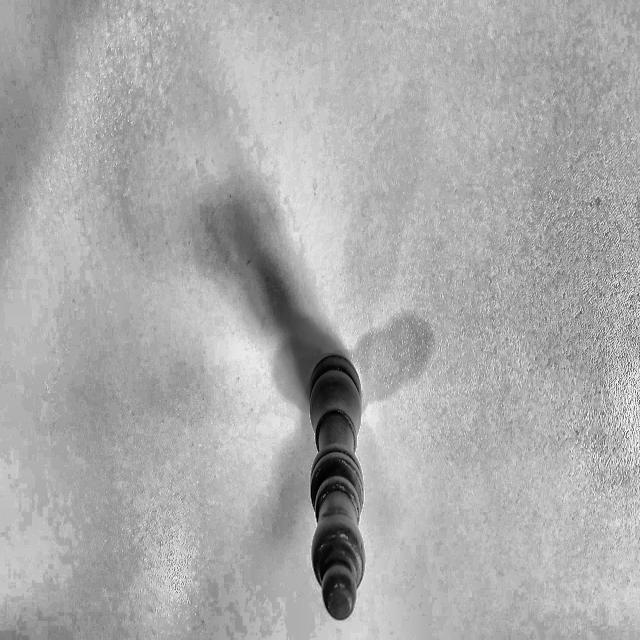black-queen: (296, 340, 382, 631)
